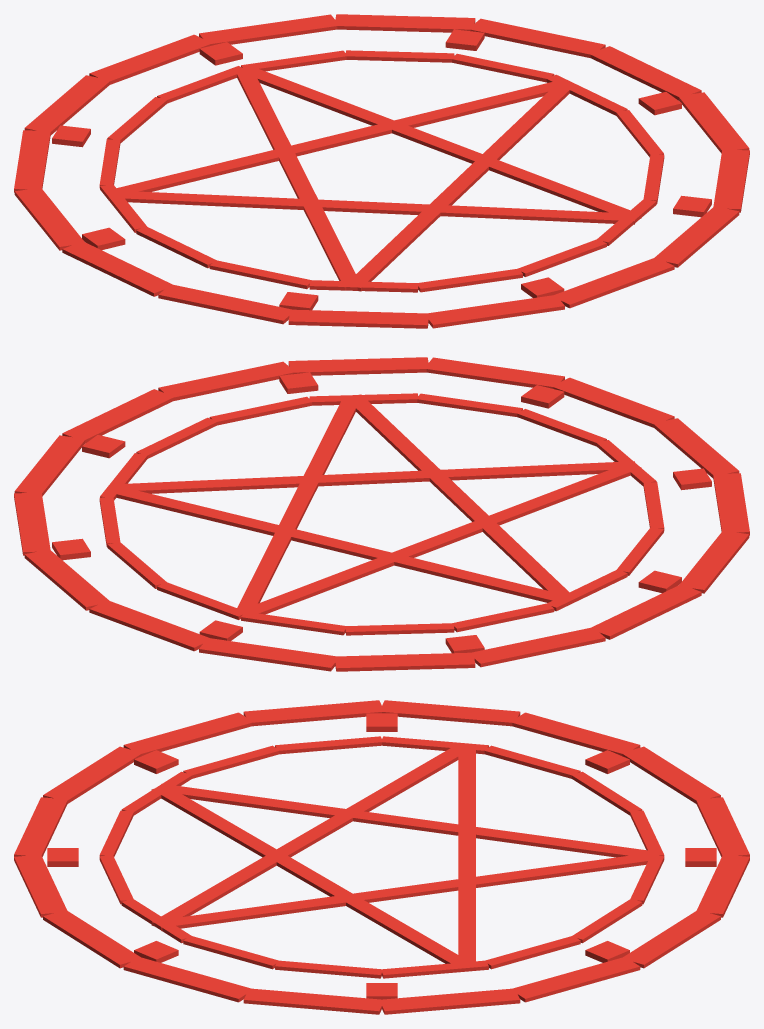
Rendered from summoning_circle.fbx.
3 renders of one model, top to bottom at view 1: azimuth 30°, elevation 25°; view 2: azimuth 150°, elevation 25°; view 3: azimuth 270°, elevation 25°, orthographic.
Parts seen in each view (by area): view 1: summoning_circle; view 2: summoning_circle; view 3: summoning_circle.
Boxes of the visible parts, box(x1,y1,x2,y2) form: summoning_circle: box(14, 14, 749, 328); summoning_circle: box(14, 357, 749, 671); summoning_circle: box(14, 700, 749, 1014).
Size of the model in its own units: 3.74 by 0.03 by 3.74.
